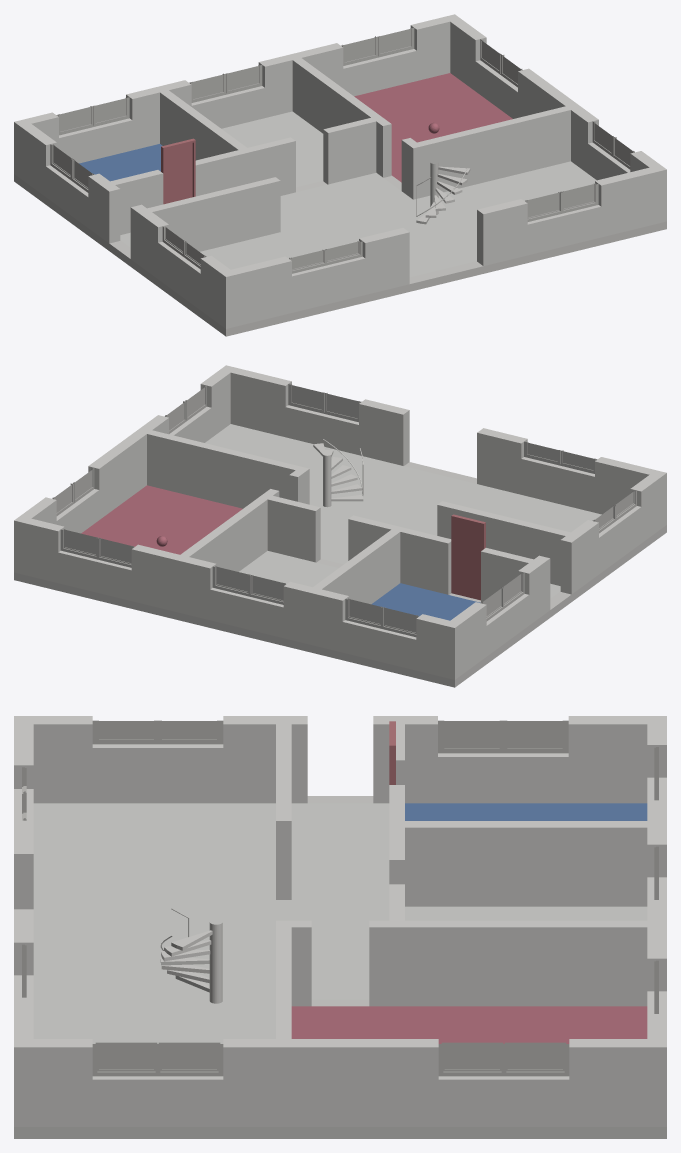
File: ifc-cutaway-door-19504-closed.glb
The picture shows the model from 3 angles, top to bottom: view 1: azimuth 30°, elevation 25°; view 2: azimuth 150°, elevation 25°; view 3: azimuth 270°, elevation 25°; orthographic projection. The views are drawn at different scales.
Parts seen in each view (by area): view 1: IfcWallStandardCase/IFC_27421, IfcWallStandardCase/IFC_32407, IfcWallStandardCase/IFC_21966, RoomFootprints/33774_Wohnen, IfcWallStandardCase/IFC_18698, IfcWallStandardCase/IFC_15042, IfcWallStandardCase/IFC_31470, RoomFootprints/20909_Schlafzimmer, IfcSlab/IFC_34509, IfcWallStandardCase/IFC_20598, IfcWallStandardCase/IFC_17040, RoomFootprints/34191_Flur (+15 smaller); view 2: IfcWallStandardCase/IFC_32407, IfcWallStandardCase/IFC_27421, IfcWallStandardCase/IFC_21966, RoomFootprints/33774_Wohnen, IfcWallStandardCase/IFC_18698, IfcWallStandardCase/IFC_31470, IfcWallStandardCase/IFC_15042, IfcSlab/IFC_34509, RoomFootprints/20909_Schlafzimmer, IfcWallStandardCase/IFC_17040, IfcWallStandardCase/IFC_20598, IfcWallStandardCase/IFC_18465 (+15 smaller); view 3: IfcWallStandardCase/IFC_31470, IfcWallStandardCase/IFC_21966, RoomFootprints/34763_KÃ¼che, IfcWallStandardCase/IFC_17040, RoomFootprints/33774_Wohnen, IfcWallStandardCase/IFC_18465, RoomFootprints/34191_Flur, RoomFootprints/20909_Schlafzimmer, IfcSlab/IFC_34509, IfcWallStandardCase/IFC_27421, IfcWallStandardCase/IFC_32407, IfcWindow/IFC_32098 (+9 smaller).
Boxes of the visible parts, x1,y1,x2,y2 form: IfcWallStandardCase/IFC_27421: [226, 167, 666, 328]; IfcWallStandardCase/IFC_32407: [14, 14, 454, 163]; IfcWallStandardCase/IFC_21966: [14, 122, 230, 328]; RoomFootprints/33774_Wohnen: [314, 161, 596, 277]; IfcWallStandardCase/IFC_18698: [110, 118, 376, 234]; IfcWallStandardCase/IFC_15042: [413, 106, 570, 199]; IfcWallStandardCase/IFC_31470: [450, 14, 666, 180]; RoomFootprints/20909_Schlafzimmer: [354, 73, 512, 182]; IfcSlab/IFC_34509: [14, 174, 666, 336]; IfcWallStandardCase/IFC_20598: [147, 177, 280, 251]; IfcWallStandardCase/IFC_17040: [292, 58, 416, 199]; RoomFootprints/34191_Flur: [120, 172, 412, 247]; IfcWallStandardCase/IFC_32407: [14, 518, 454, 679]; IfcWallStandardCase/IFC_27421: [226, 365, 666, 514]; IfcWallStandardCase/IFC_21966: [450, 473, 666, 679]; RoomFootprints/33774_Wohnen: [205, 424, 487, 532]; IfcWallStandardCase/IFC_18698: [267, 496, 533, 602]; IfcWallStandardCase/IFC_31470: [14, 365, 230, 533]; IfcWallStandardCase/IFC_15042: [147, 430, 308, 508]; IfcSlab/IFC_34509: [14, 462, 666, 687]; RoomFootprints/20909_Schlafzimmer: [81, 485, 242, 554]; IfcWallStandardCase/IFC_17040: [180, 468, 309, 571]; IfcWallStandardCase/IFC_20598: [437, 501, 570, 585]; IfcWallStandardCase/IFC_18465: [313, 529, 400, 604]; IfcWallStandardCase/IFC_31470: [14, 1039, 666, 1126]; IfcWallStandardCase/IFC_21966: [14, 716, 666, 803]; RoomFootprints/34763_KÃ¼che: [33, 803, 275, 924]; IfcWallStandardCase/IFC_17040: [277, 920, 647, 1006]; RoomFootprints/33774_Wohnen: [33, 924, 275, 1043]; IfcWallStandardCase/IFC_18465: [405, 821, 647, 906]; RoomFootprints/34191_Flur: [276, 803, 389, 999]; RoomFootprints/20909_Schlafzimmer: [291, 1006, 647, 1043]; IfcSlab/IFC_34509: [14, 796, 666, 1138]; IfcWallStandardCase/IFC_27421: [14, 716, 33, 1046]; IfcWallStandardCase/IFC_32407: [647, 716, 666, 1046]; IfcWindow/IFC_32098: [92, 1042, 223, 1076].
Size of the model in its own units: 12 by 2.21 by 10.
